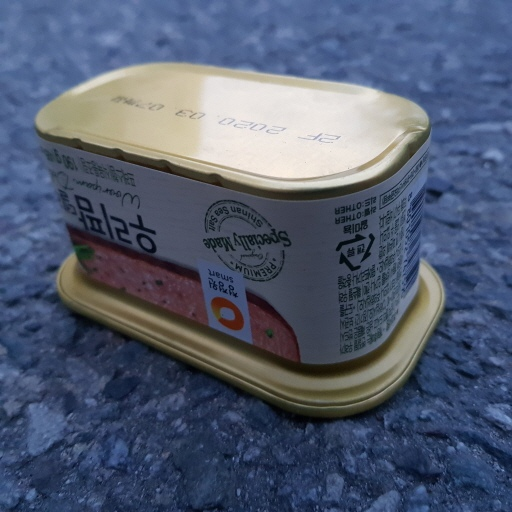Metal_2: (37, 61, 449, 415)
